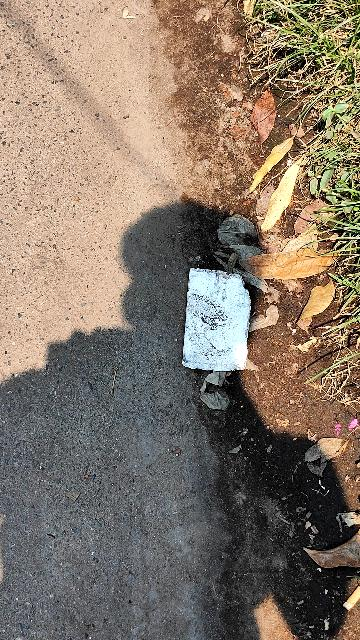cocksheet: (177, 262, 274, 399)
